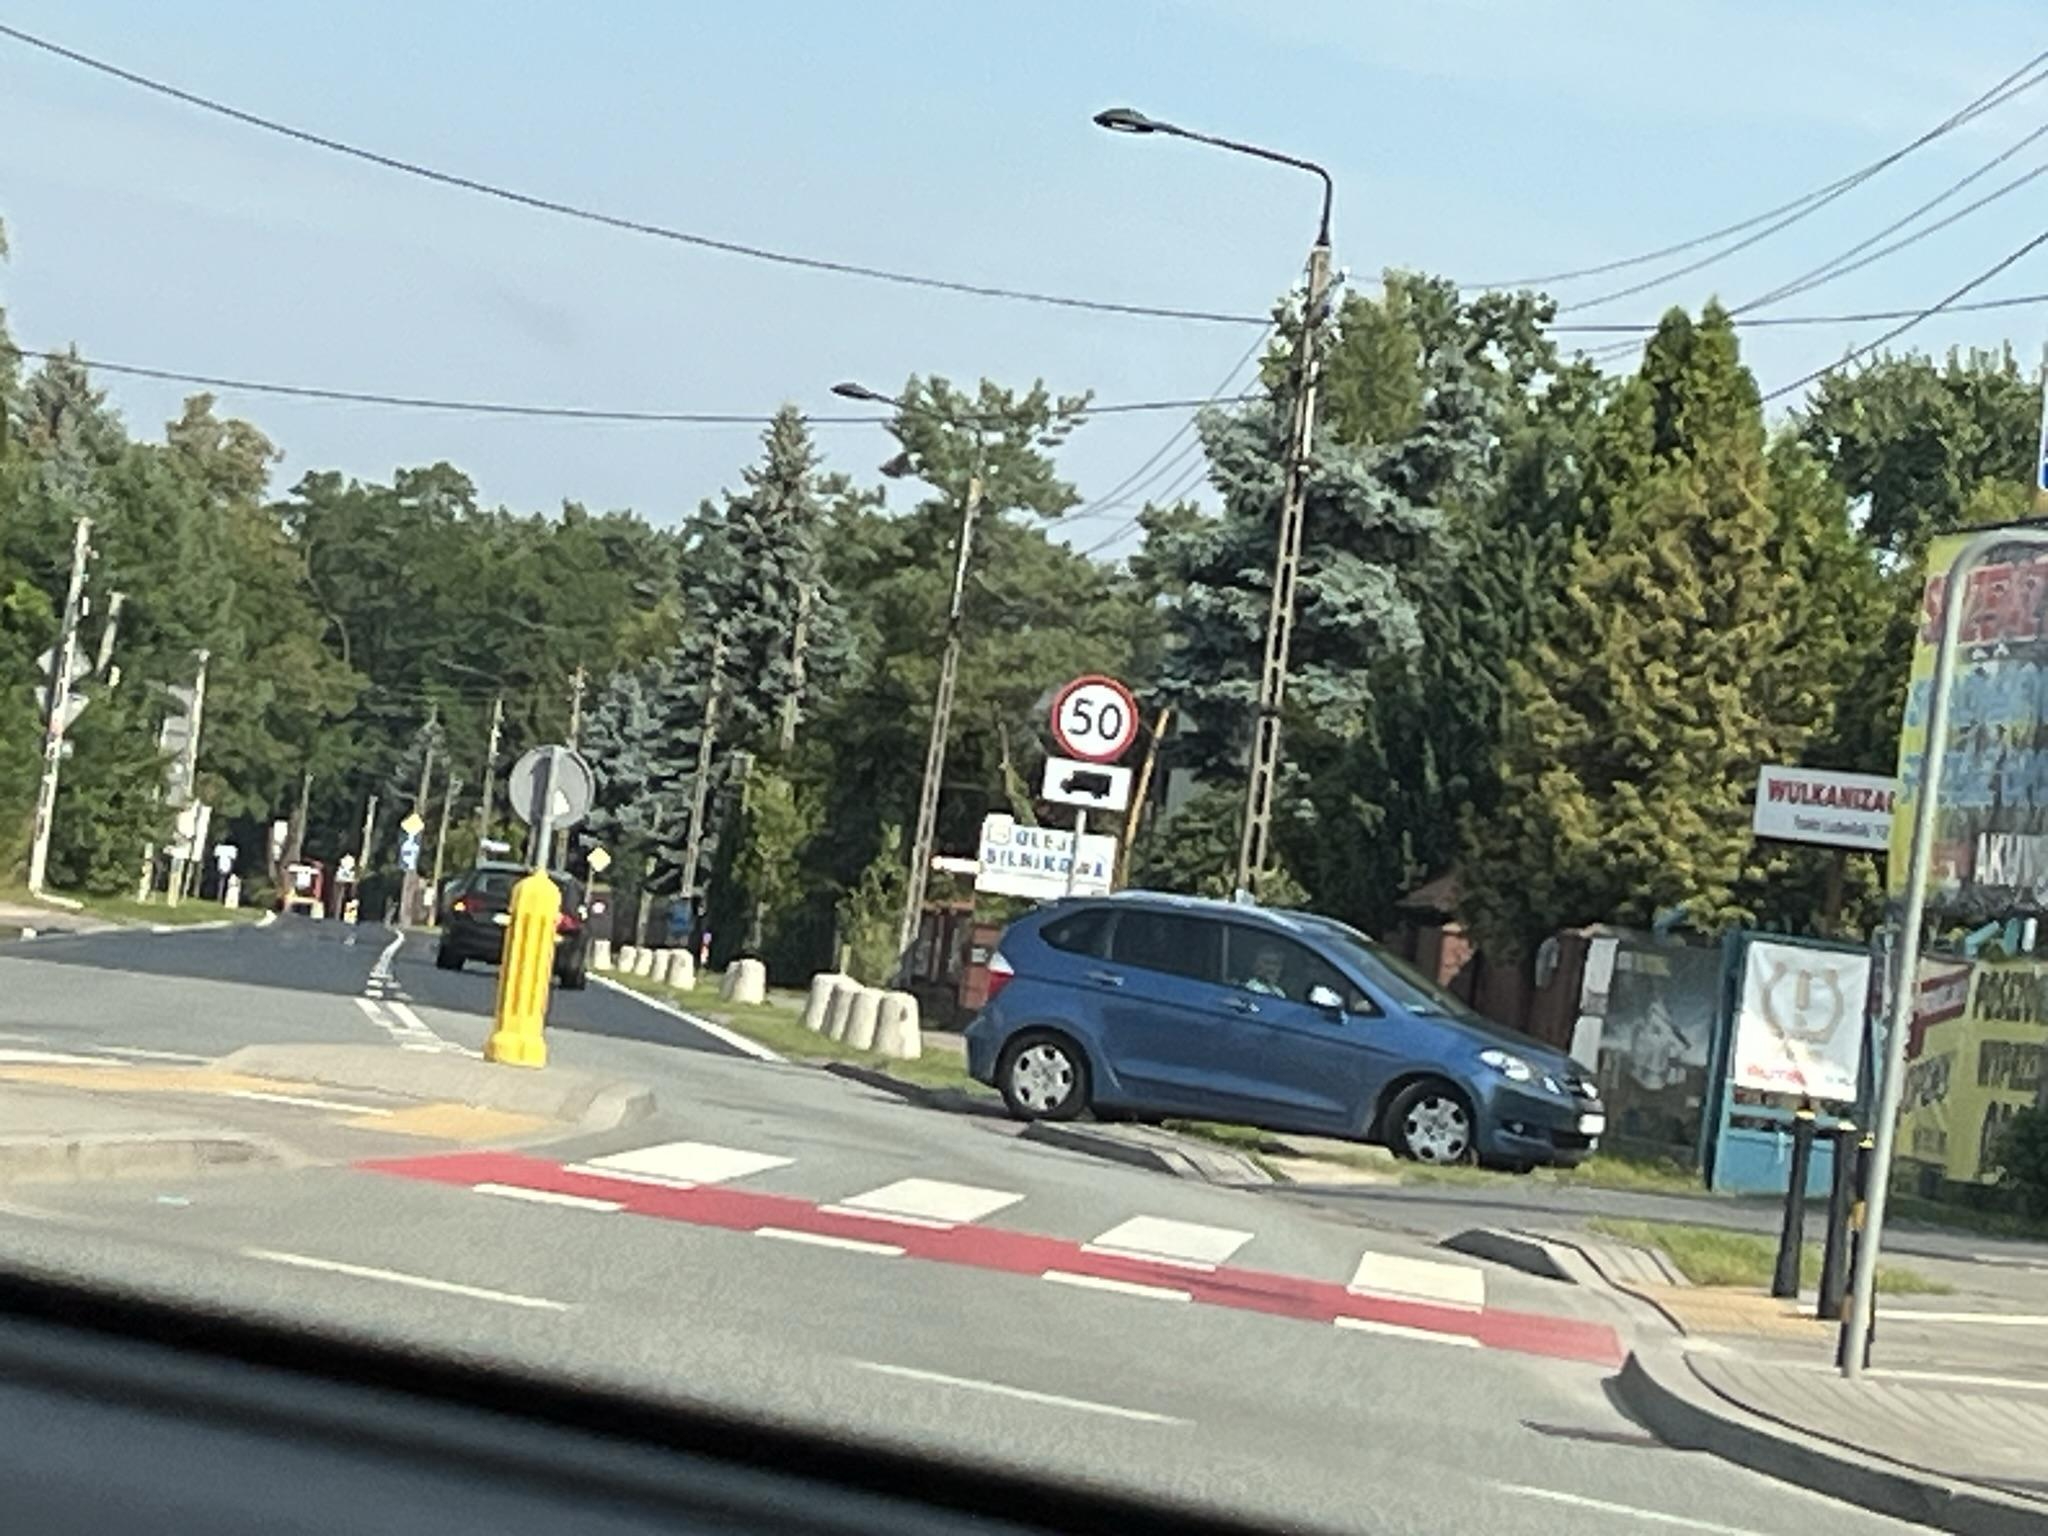other: (1042, 758, 1138, 810)
prohibitory: (1051, 670, 1140, 762)
